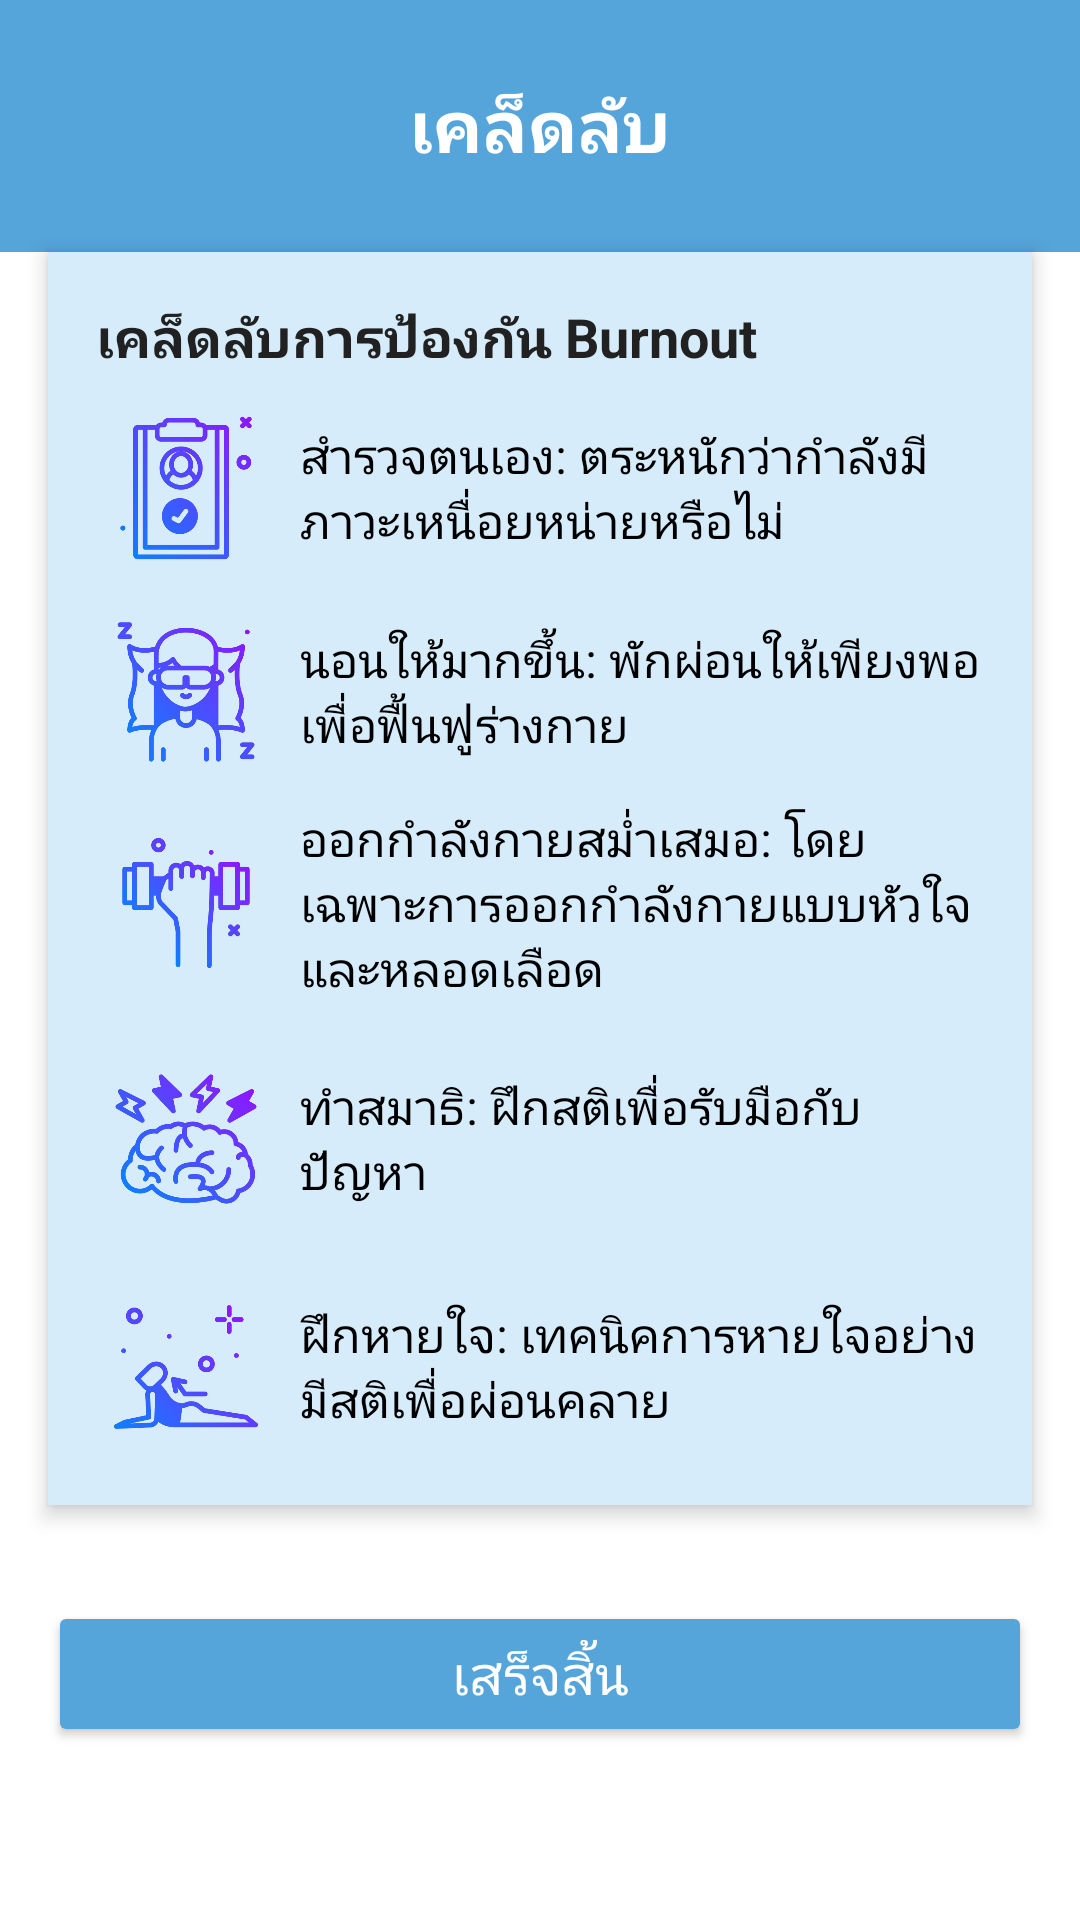

Icons on this 1080 x 1920 Android screen, each with the point to tap as (x,y):
brainstorming: (186,1139)
cobra: (186,1367)
document: (186,488)
sleep: (186,692)
weight: (186,903)
